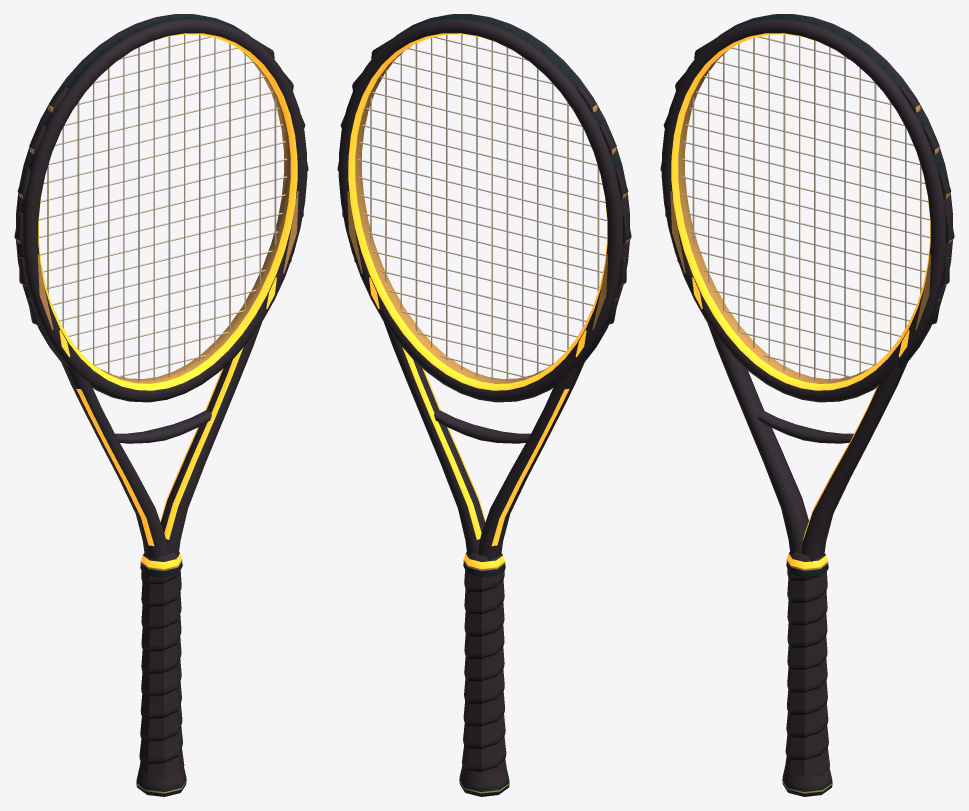
Rendered from racket_flame.glb.
3 views of the same model, side by side, from view 1: azimuth 30°, elevation 25°; view 2: azimuth 150°, elevation 25°; view 3: azimuth 330°, elevation 25° (orthographic).
Parts seen in each view (by area): view 1: Volcanic Legend; view 2: Volcanic Legend; view 3: Volcanic Legend.
Boxes of the visible parts, x1,y1,x2,y2 form: Volcanic Legend: [14, 14, 308, 796]; Volcanic Legend: [337, 14, 631, 796]; Volcanic Legend: [660, 14, 954, 796].
Bounding box in the file's own units: 0.2731 × 0.6847 × 0.0379.
